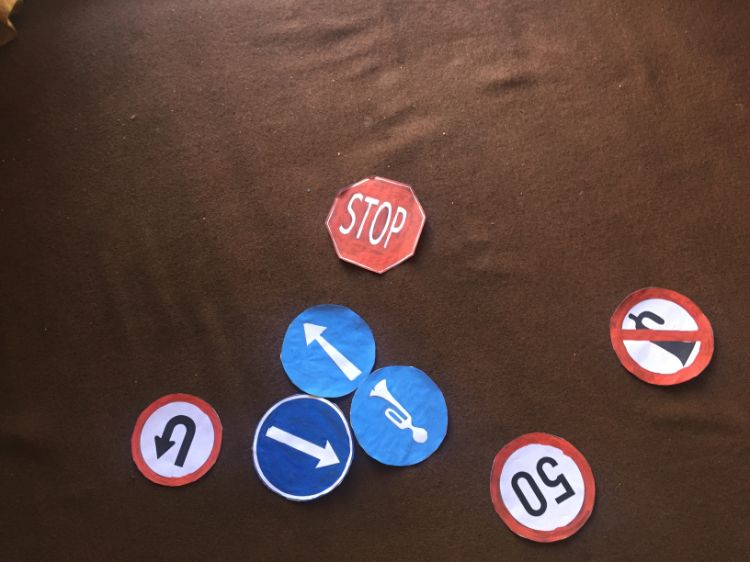blow-horn: (357, 368, 447, 458)
go-stright: (254, 396, 351, 493)
keep-left: (279, 308, 370, 399)
no-horn: (610, 288, 711, 389)
speed-50: (488, 433, 596, 541)
stop: (325, 174, 423, 272)
u-turn: (133, 391, 224, 482)
